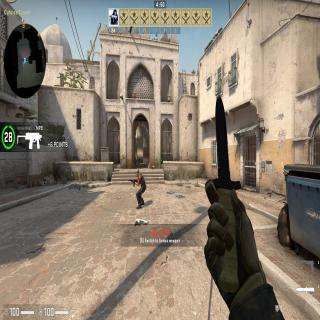T-Body: (132, 168, 147, 209)
T-Head: (136, 168, 140, 177)
